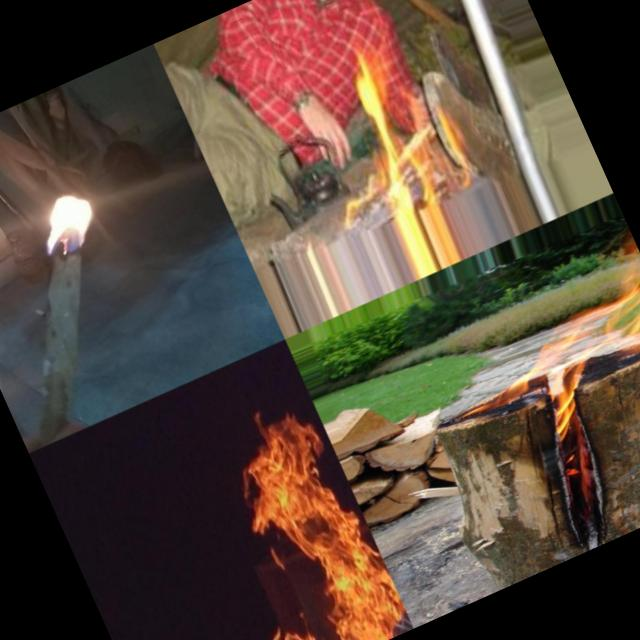fire: (182, 397, 414, 640), (438, 257, 640, 458), (302, 38, 479, 232), (24, 180, 121, 265)
